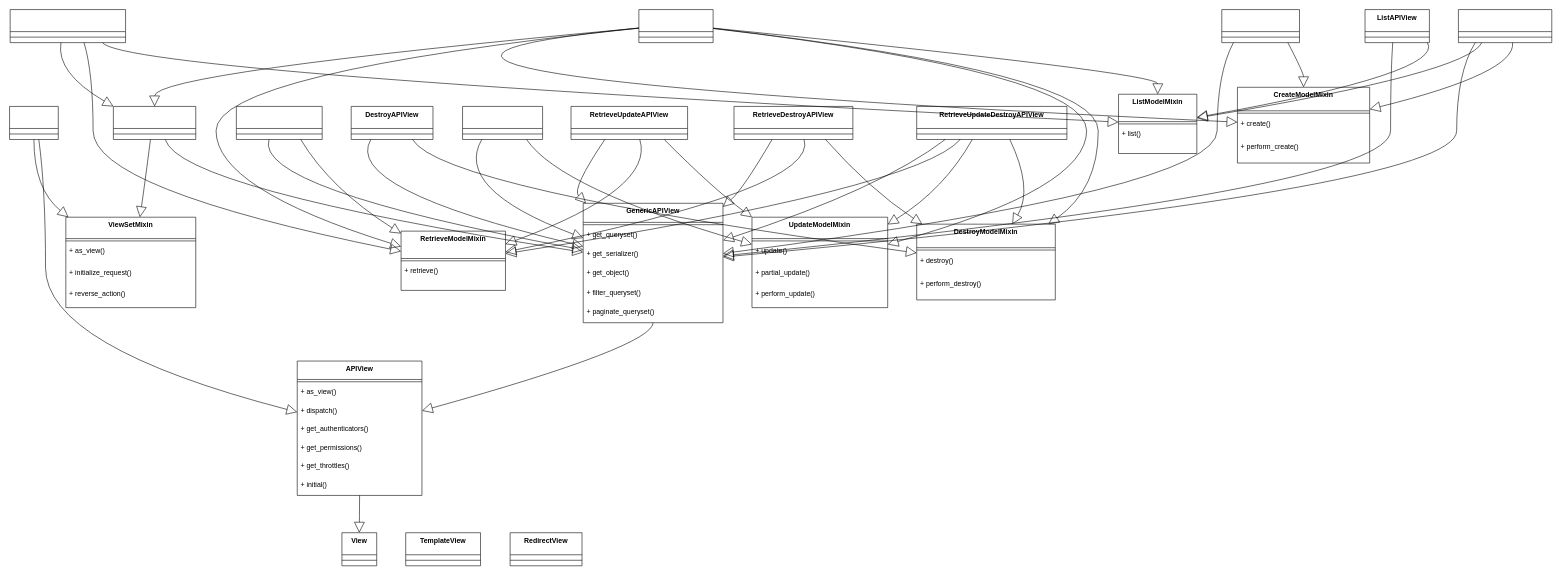
This 1561x575 diagram has some shape labels left out. Here are the shapes that lost their labels. From the top down, the centre of each, then its label:
pixel 68 26: ReadOnlyModelViewSet
pixel 675 26: ModelViewSet
pixel 1260 26: CreateAPIView
pixel 1505 26: ListCreateAPIView
pixel 33 122: ViewSet
pixel 154 122: GenericViewSet
pixel 279 122: RetrieveAPIView
pixel 502 122: UpdateAPIView
